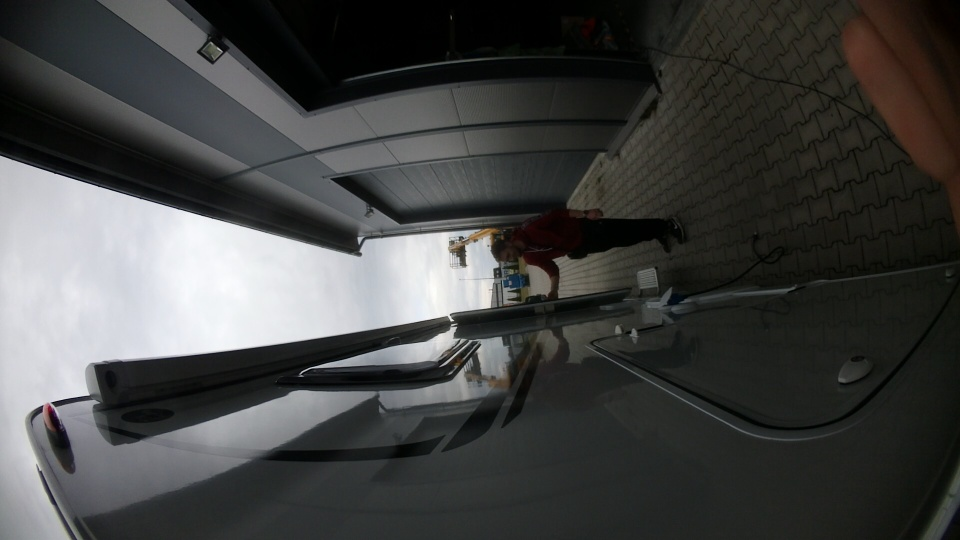step_back: (630, 261, 665, 296)
